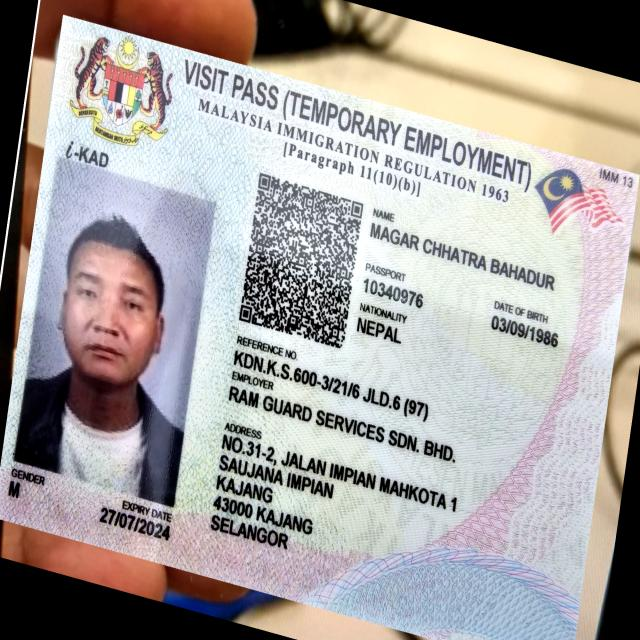ikad-temp: (1, 13, 638, 638)
